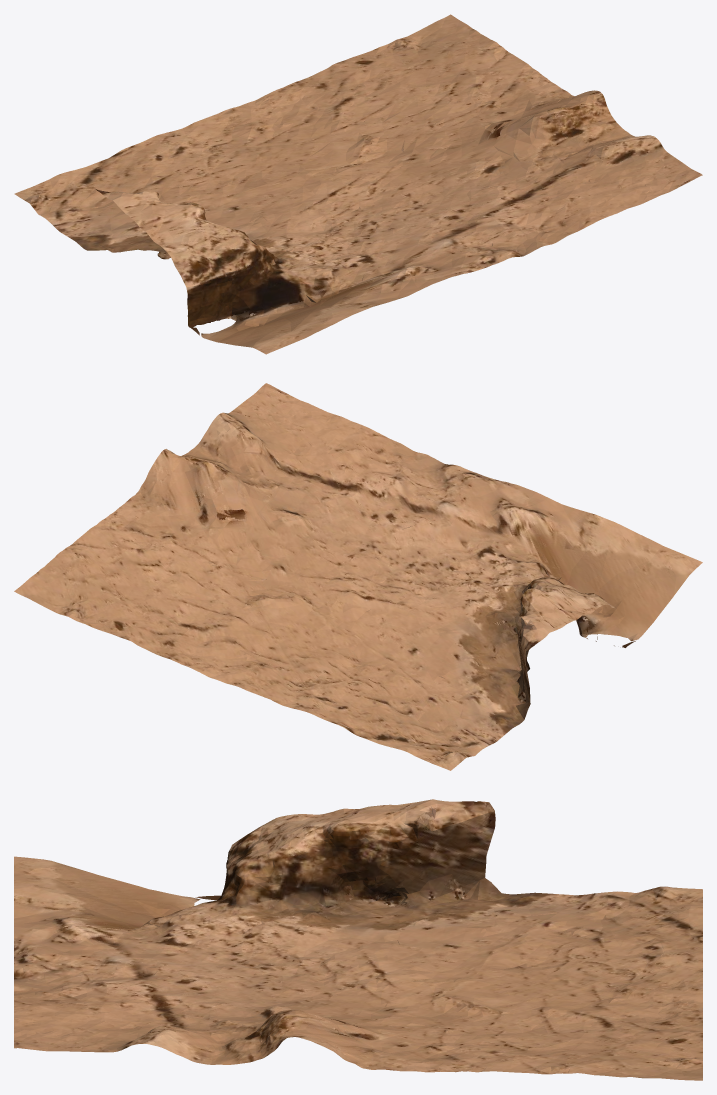
3 views of the same model, one above another, from view 1: azimuth 30°, elevation 25°; view 2: azimuth 150°, elevation 25°; view 3: azimuth 270°, elevation 25° (orthographic). The views are drawn at different scales.
Size of the model in its own units: 1.04 by 0.2531 by 1.04.
Materials: 3 (3 with a texture image).
